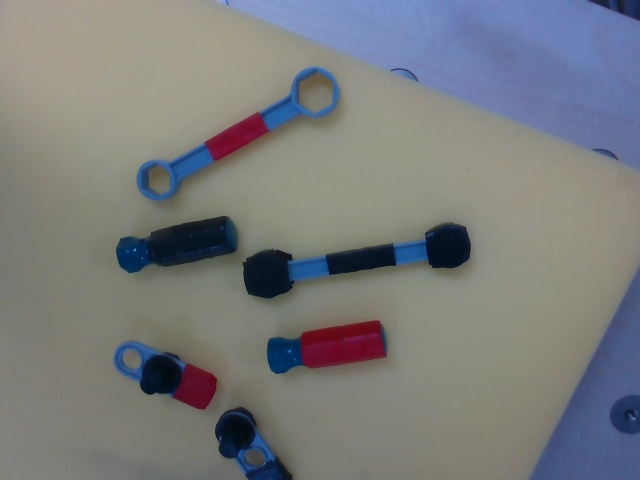part_1_good: (111, 336, 223, 414)
